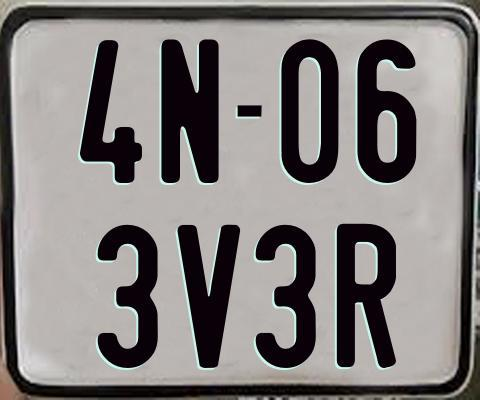0: (279, 37, 337, 186)
3: (253, 225, 315, 371), (97, 222, 160, 365)
4: (80, 39, 146, 185)
6: (355, 37, 420, 185)
N: (158, 37, 218, 181)
R: (337, 222, 402, 366)
V: (177, 225, 242, 369)
